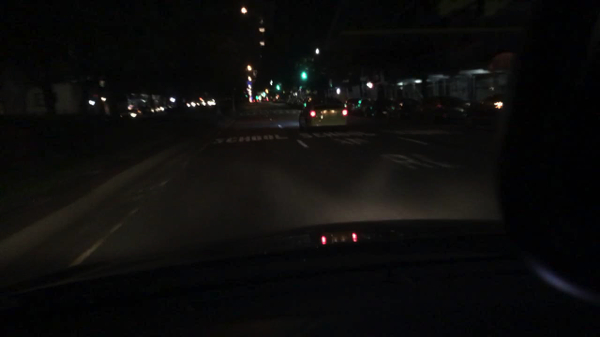car: (298, 96, 349, 131), (412, 94, 460, 124), (464, 95, 505, 128), (437, 100, 470, 127), (394, 98, 416, 119), (373, 99, 397, 118), (120, 105, 143, 120), (352, 99, 370, 116), (363, 103, 380, 119), (344, 97, 358, 114), (184, 101, 197, 109), (144, 106, 155, 115), (196, 101, 207, 107), (206, 99, 215, 106), (156, 106, 166, 112), (249, 98, 256, 103), (261, 98, 268, 103)
traffic light: (301, 72, 307, 80), (276, 85, 280, 91)
